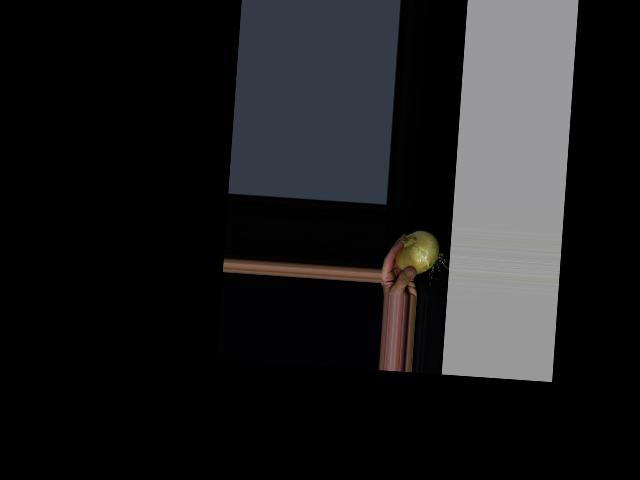onion: (393, 230, 441, 274)
